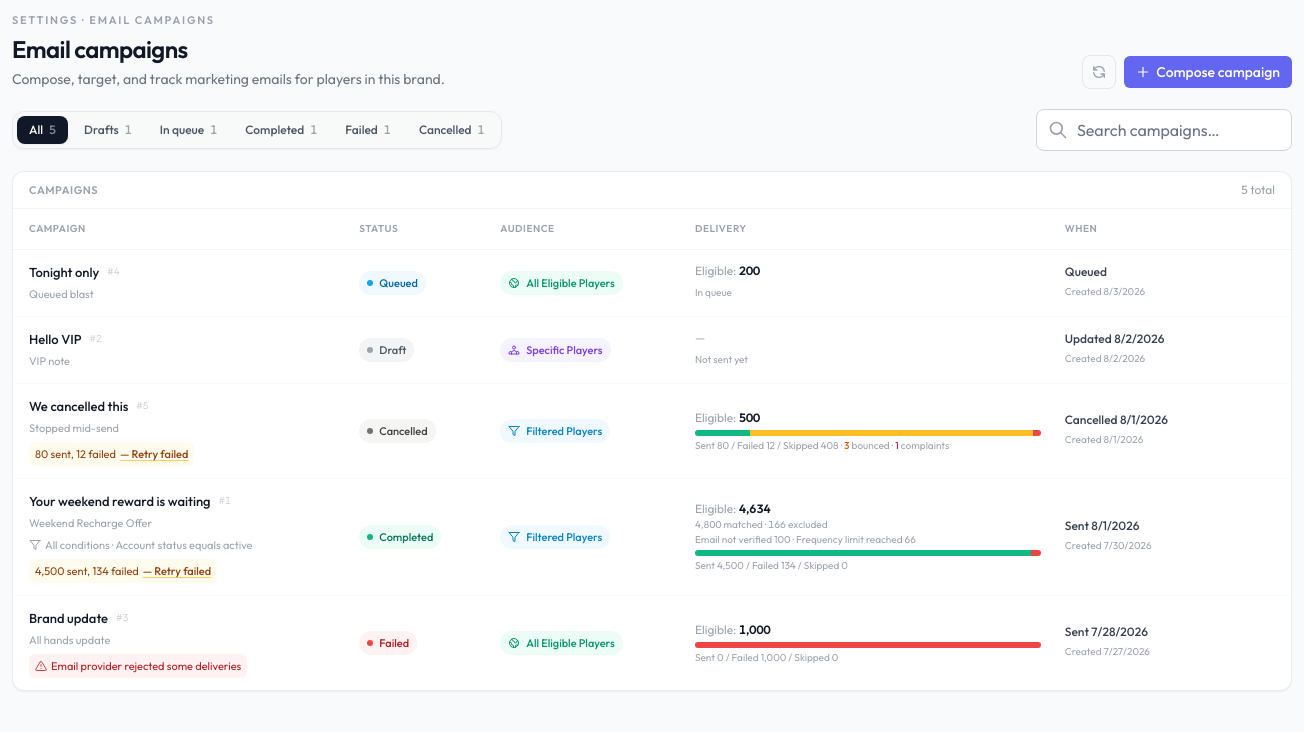
Scenario: EmailBroadcastsSettingsPage › filters the list by clicking a status group pill
Expected: the text "Your weekend reward is waiting" is shown, [29,491,211,511]
Click the text "Drafts" at point(101, 130), box [84,122,119,138]
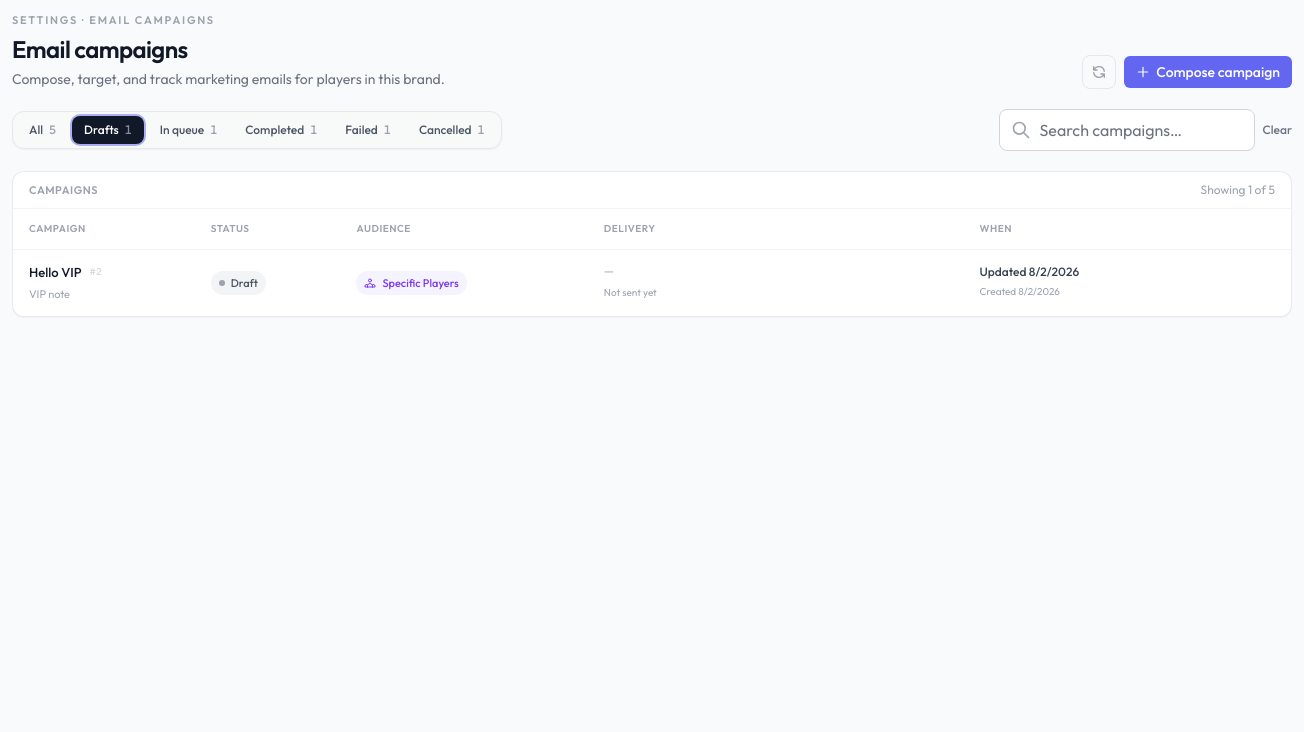
Expected: the text "Hello VIP" is shown, [29,262,82,282]
Expected: the text "Your weekend reward is waiting" is gone
Expected: the text "Brand update" is gone
Click the text "Failed" at point(362, 130), box [345,122,378,138]
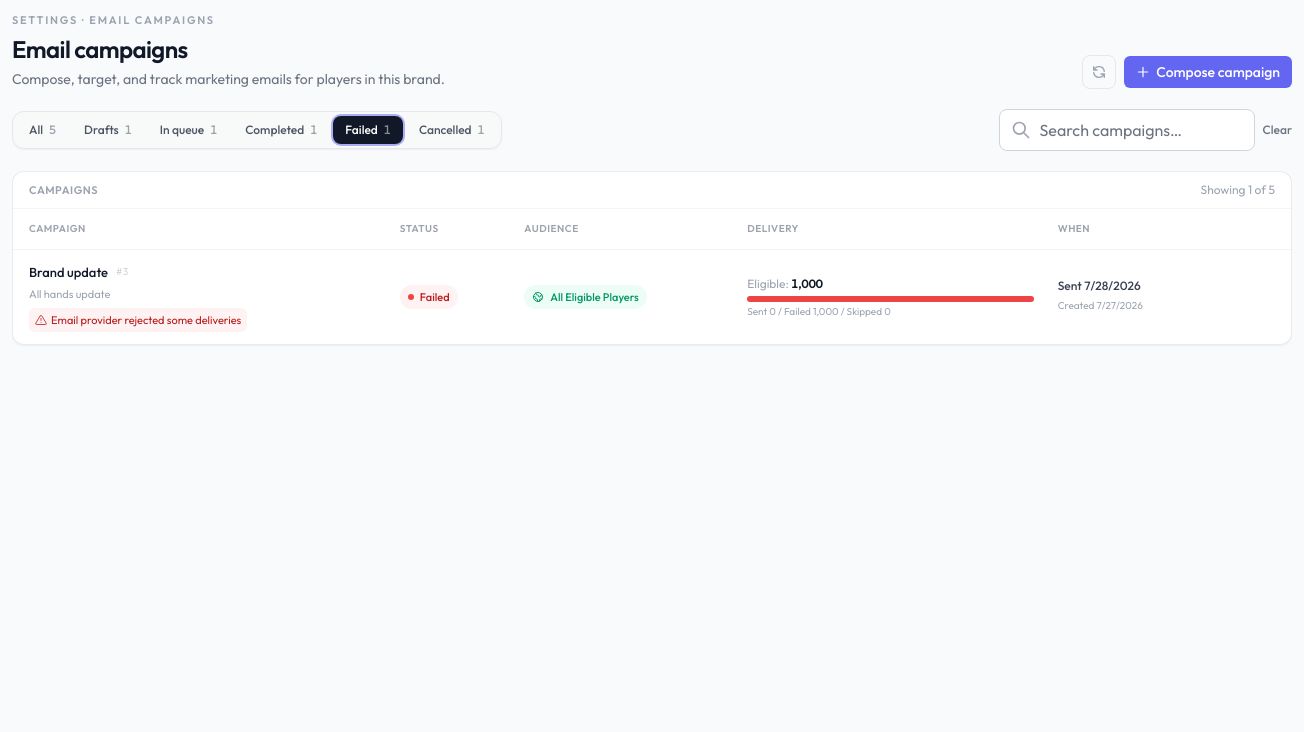
Expected: the text "Brand update" is shown, [29,262,108,282]
Expected: the text "Hello VIP" is gone
